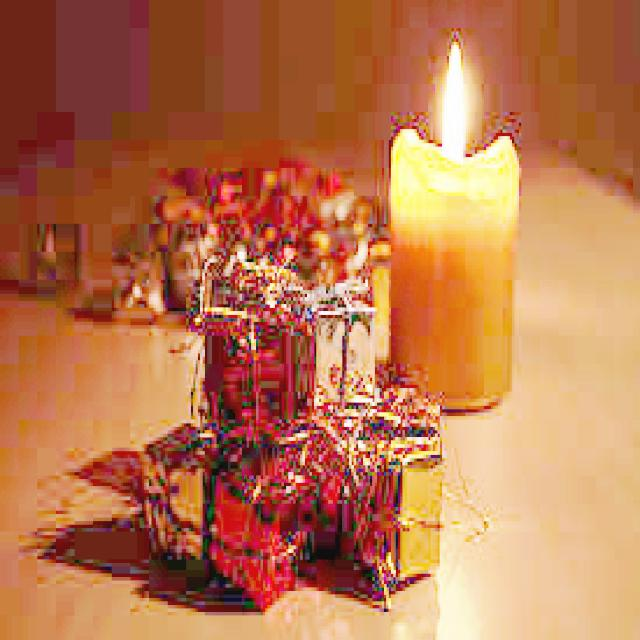api: (438, 36, 469, 162)
